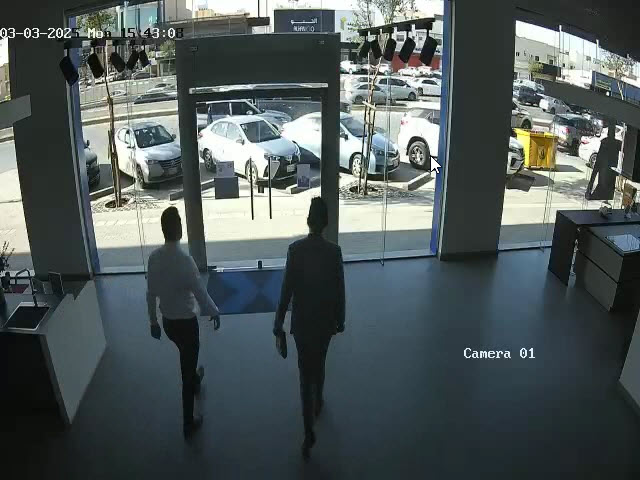employee: (145, 206, 221, 440)
male: (273, 196, 347, 455)
